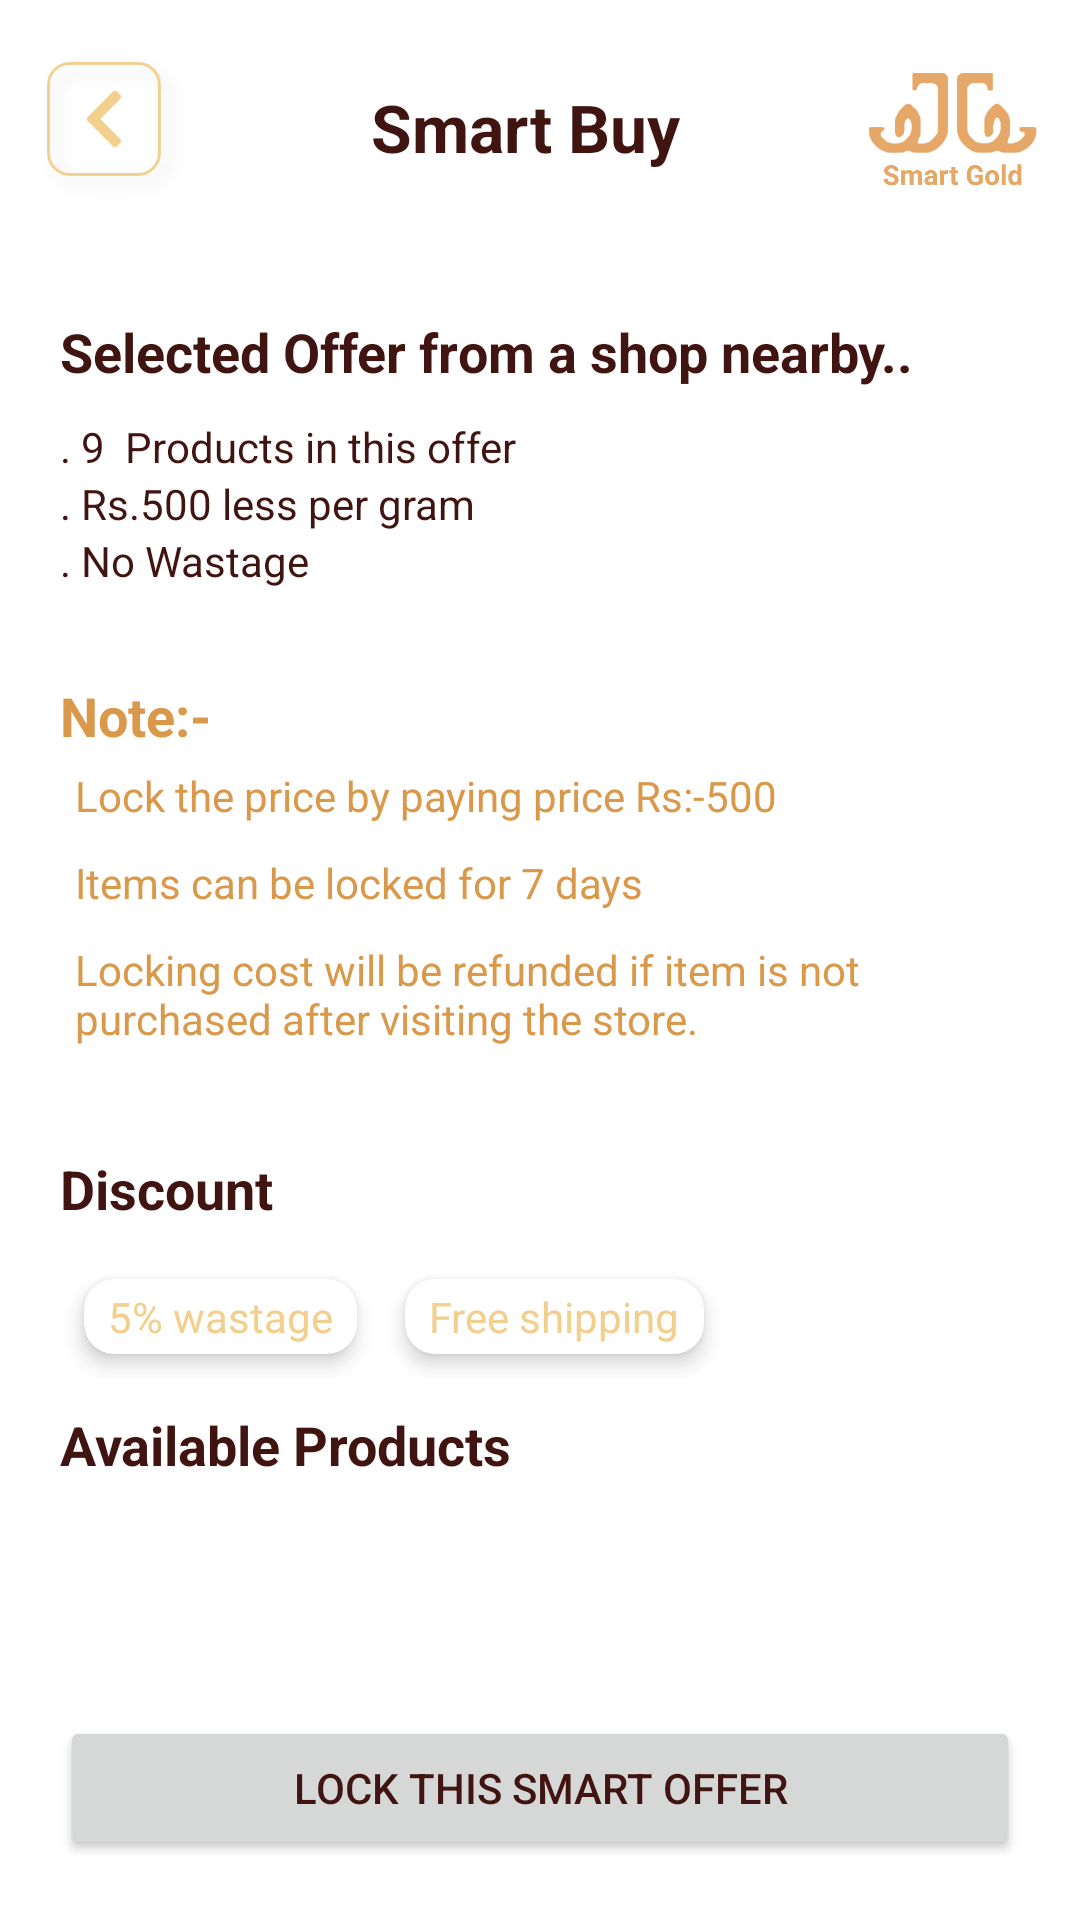

Icon bounding boxes for this 1080x1920 phone screenshot, format [x1=x1, y1=y1, x2=x2, y2=y2]:
backbtn: [x1=47, y1=62, x2=161, y2=176]
